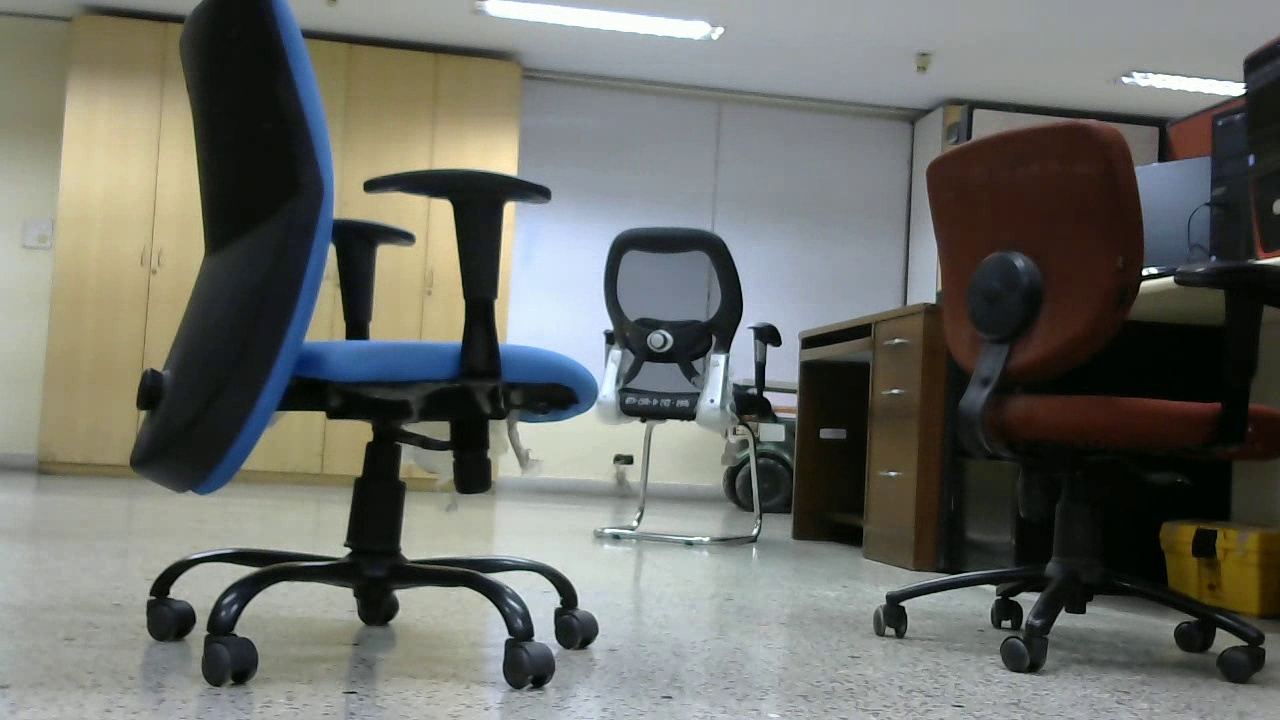chair: (129, 2, 603, 689), (868, 118, 1280, 677), (594, 224, 776, 550)
